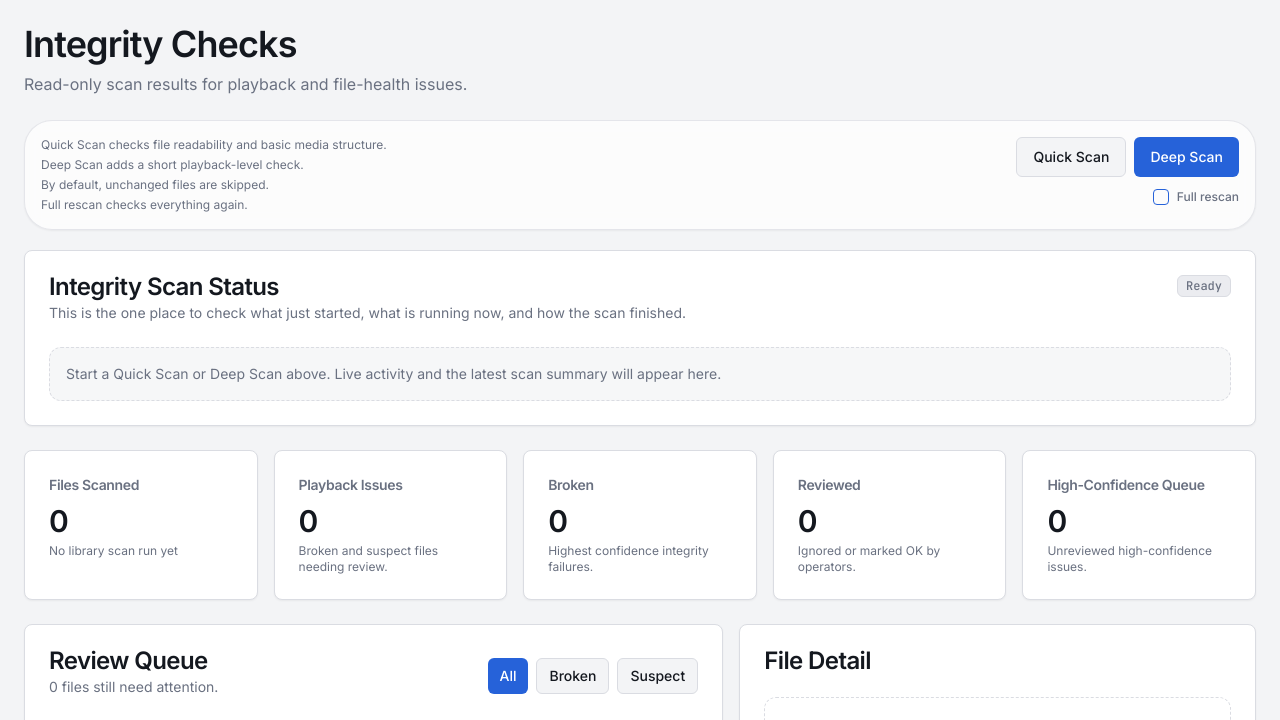
Test case: IntegrityPage › sends the full rescan override and surfaces skipped files in the summary
The image size is (1280, 720).
Click the checkbox named "Full rescan": (1161, 197) [1153,189,1169,205]
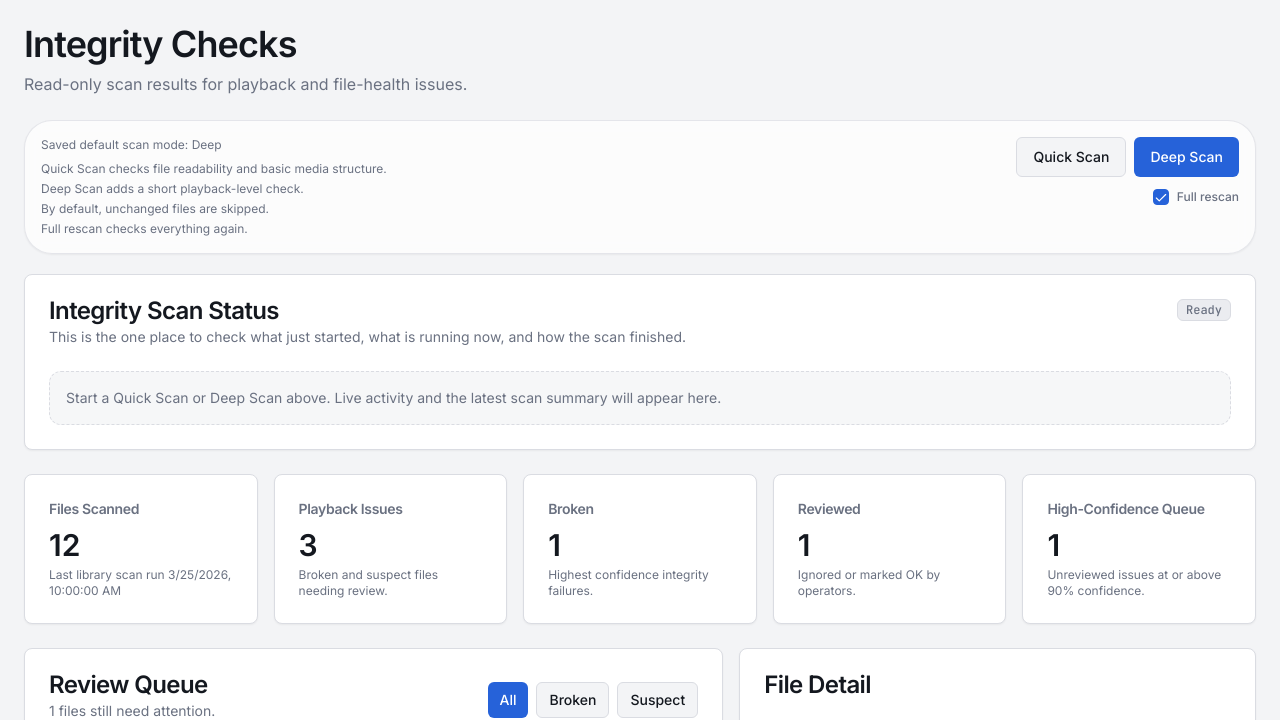
Click the button "Quick Scan": (1071, 157) [1016,137,1126,177]
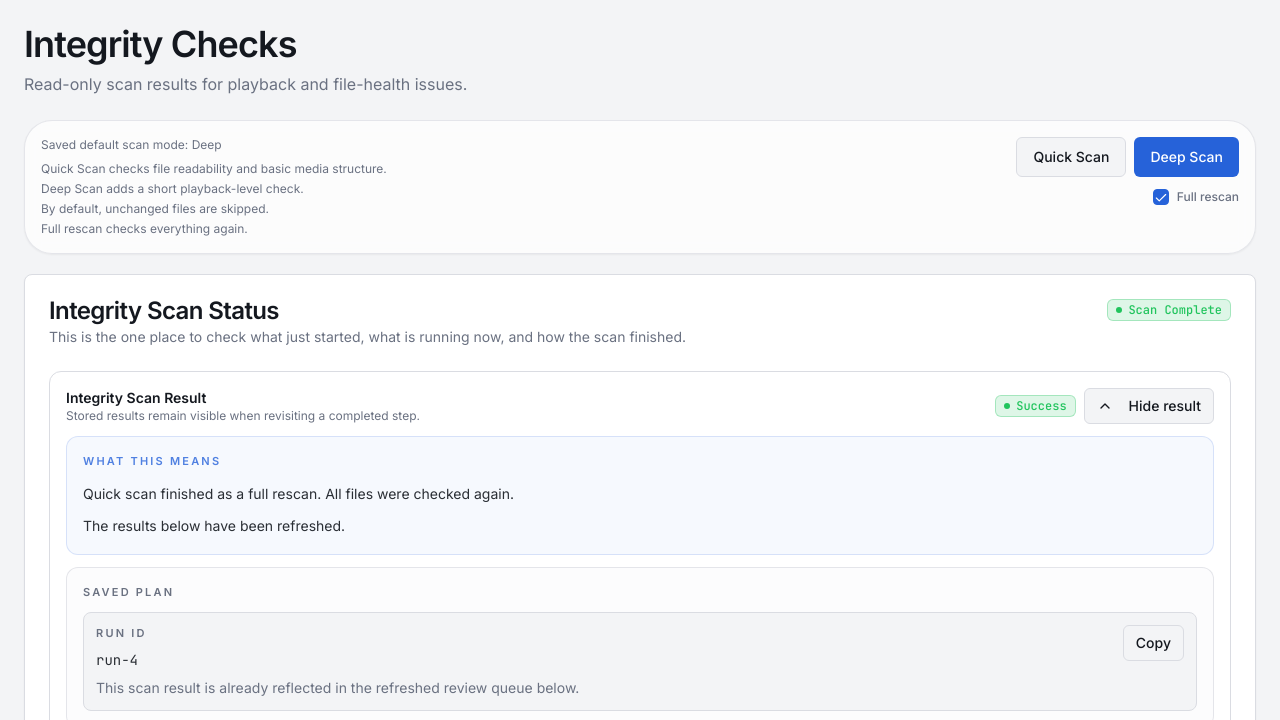
Check: the text "Quick scan finished as a full rescan. All files were checked again." is shown, box [83,484,514,502]
